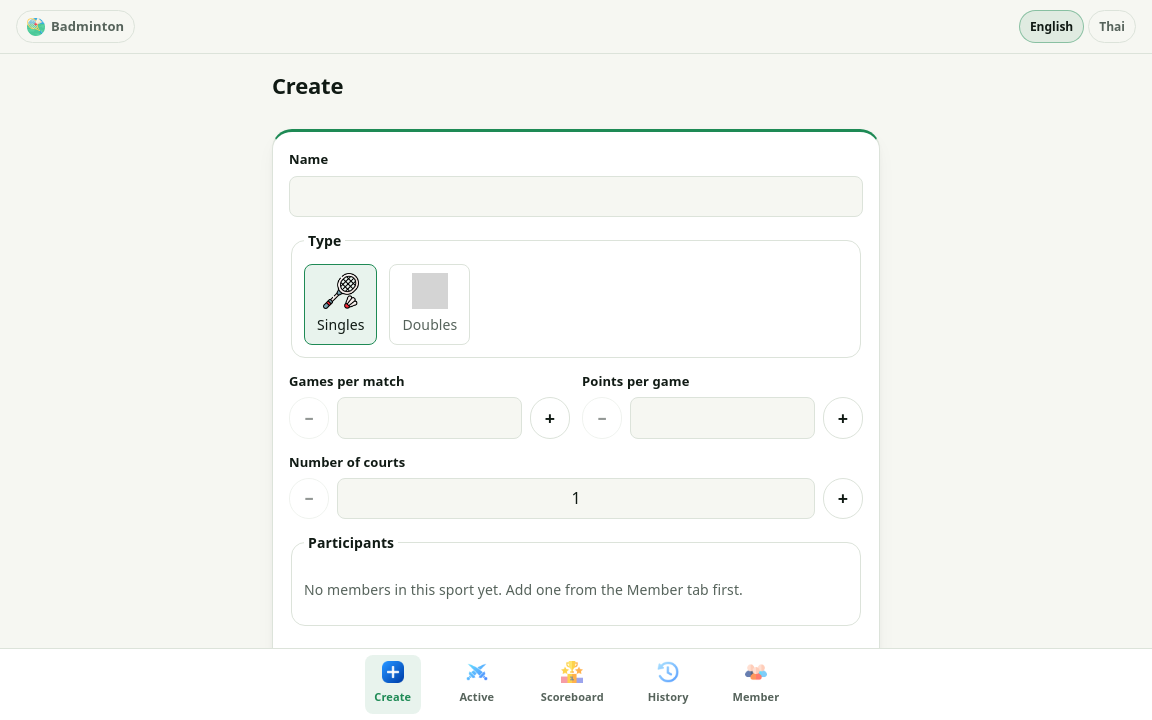
it: App › navigates to each tab and renders its page
This screenshot has width=1152, height=720.
Expected: the heading "Create" is shown, [272,70,343,100]
Click the link "Active" at coordinates (477, 682), box [459,661,494,704]
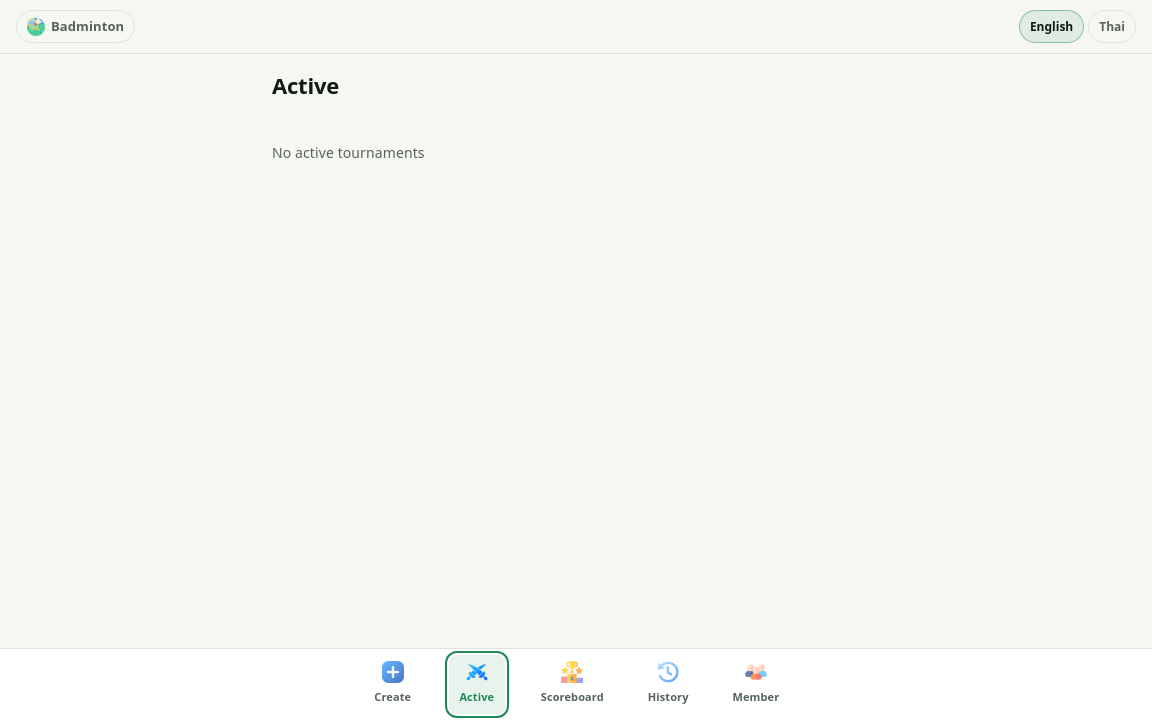
Expected: the heading "Active" is shown, [272,70,339,100]
Expected: the text "No active tournaments" is shown, [272,143,425,162]
Click the link "Scoreboard" at coordinates (572, 682), box [541,661,604,704]
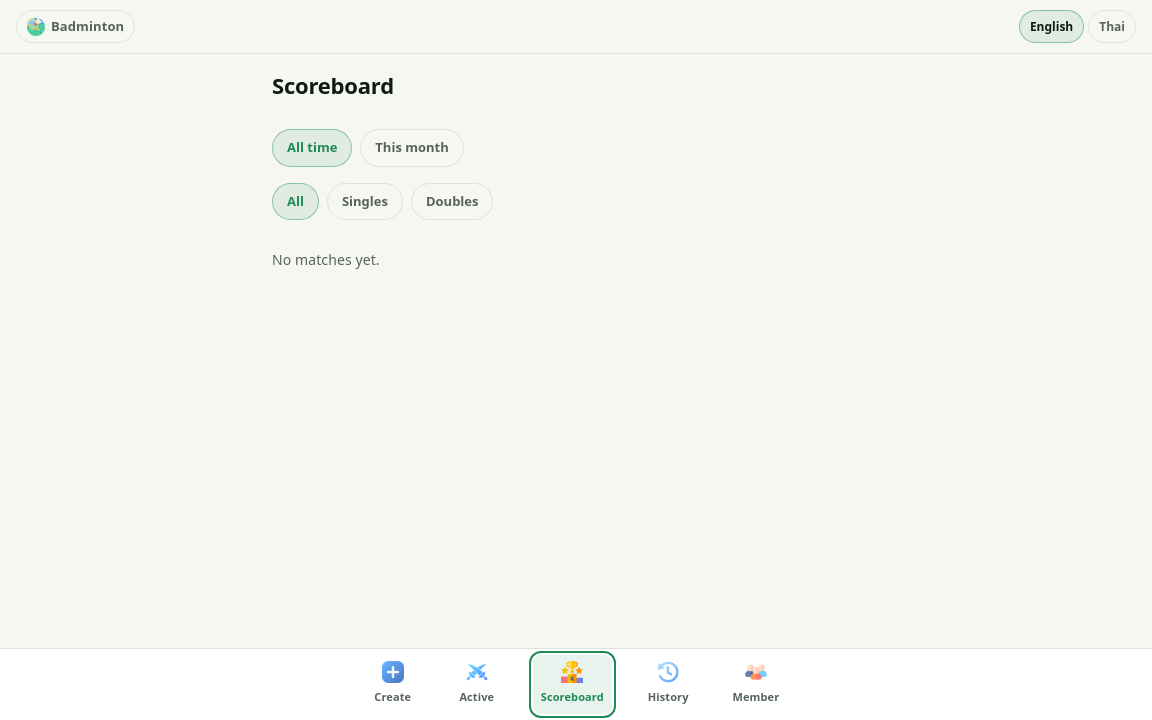
Expected: the heading "Scoreboard" is shown, [272,70,394,100]
Click the link "History" at coordinates (668, 682), box [648,661,688,704]
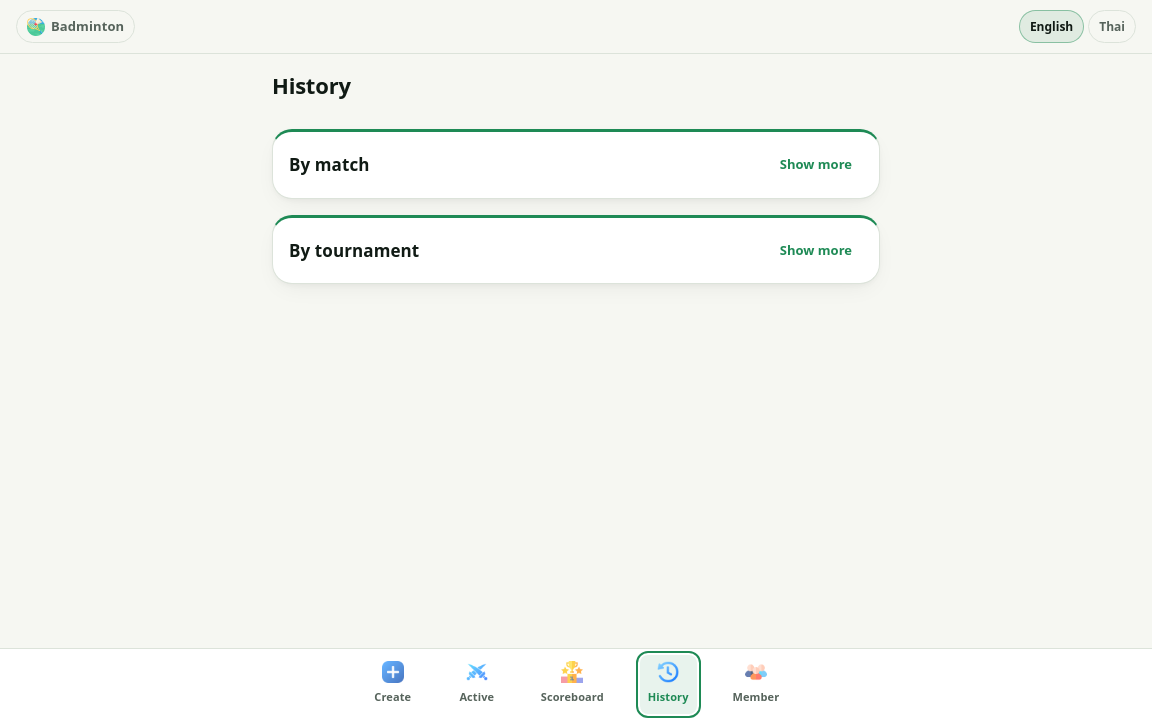
Expected: the heading "History" is shown, [272,70,351,100]
Expected: the heading "By match" is shown, [289,153,370,177]
Expected: the heading "By tournament" is shown, [289,239,419,262]
Click the link "Member" at coordinates (756, 682), box [732,661,779,704]
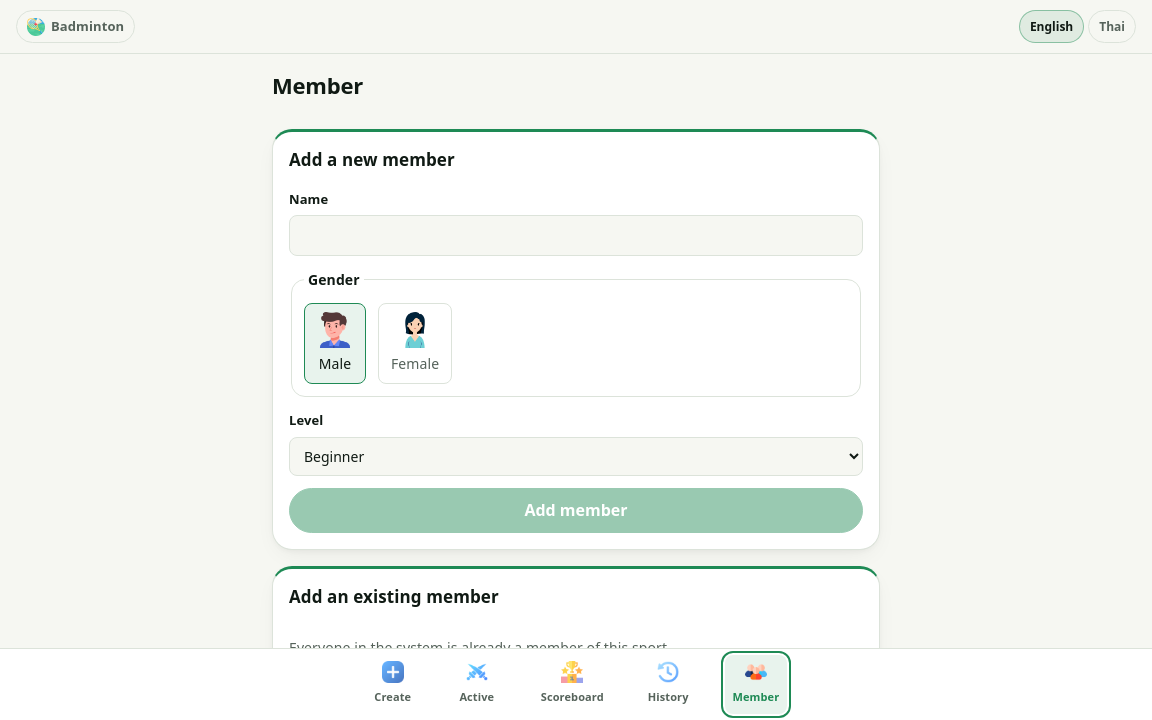
Expected: the heading "Member" is shown, [272,70,363,100]
Click the link "Create" at coordinates (393, 682), box [374,661,411,704]
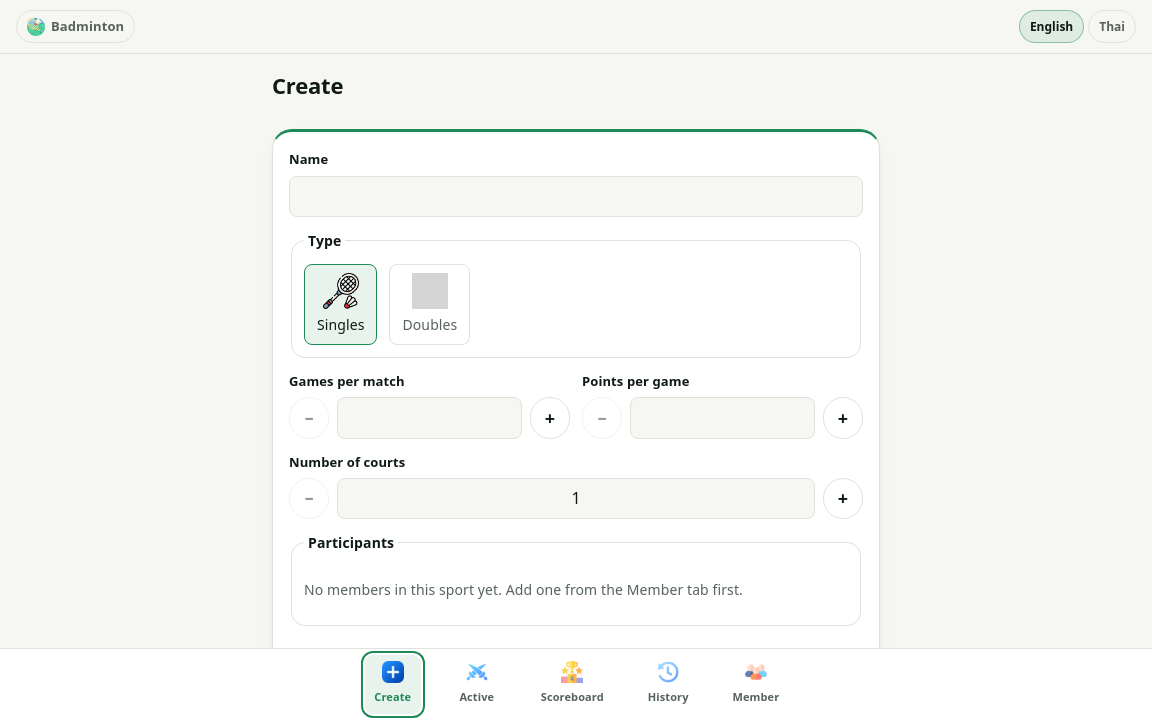
Expected: the heading "Create" is shown, [272,70,343,100]
